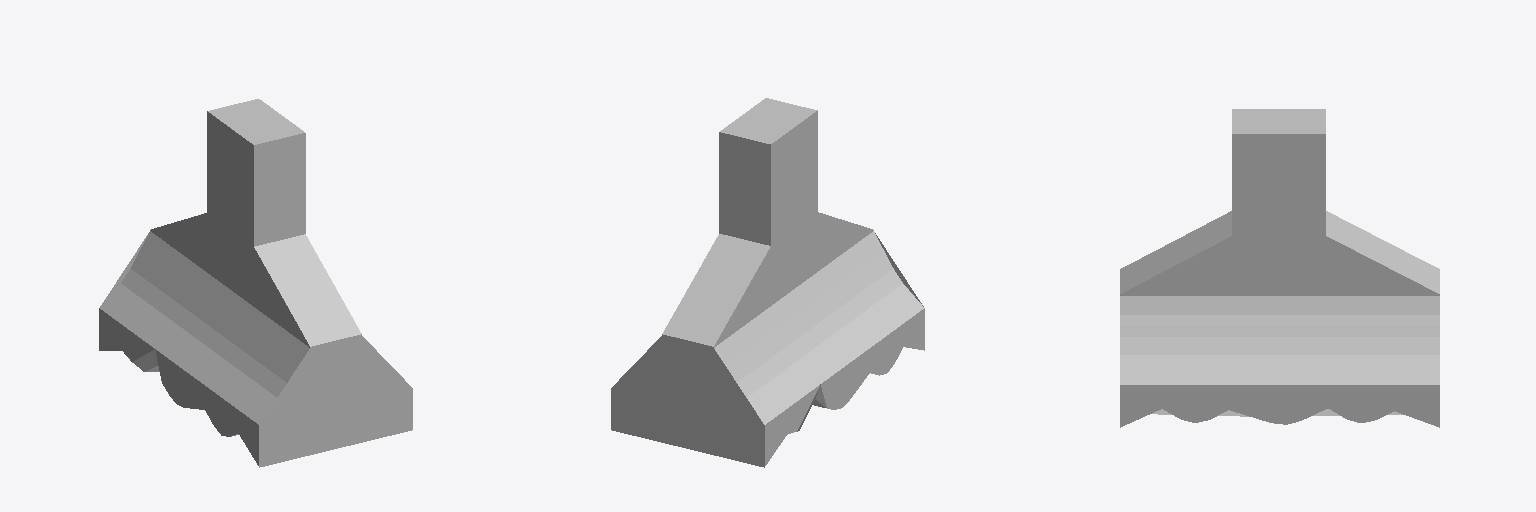
File: campana.obj
The picture shows the model from 3 angles: view 1: azimuth 30°, elevation 25°; view 2: azimuth 150°, elevation 25°; view 3: azimuth 270°, elevation 25°; orthographic projection.
Parts seen in each view (by area): view 1: polySurface1; view 2: polySurface1; view 3: polySurface1.
Part boxes in pixels (x1,y1,x2,y2): polySurface1: (99,99,412,467); polySurface1: (611,98,924,467); polySurface1: (1120,109,1439,427).
Bounding box in the file's own units: 1.58 × 2.65 × 2.86.